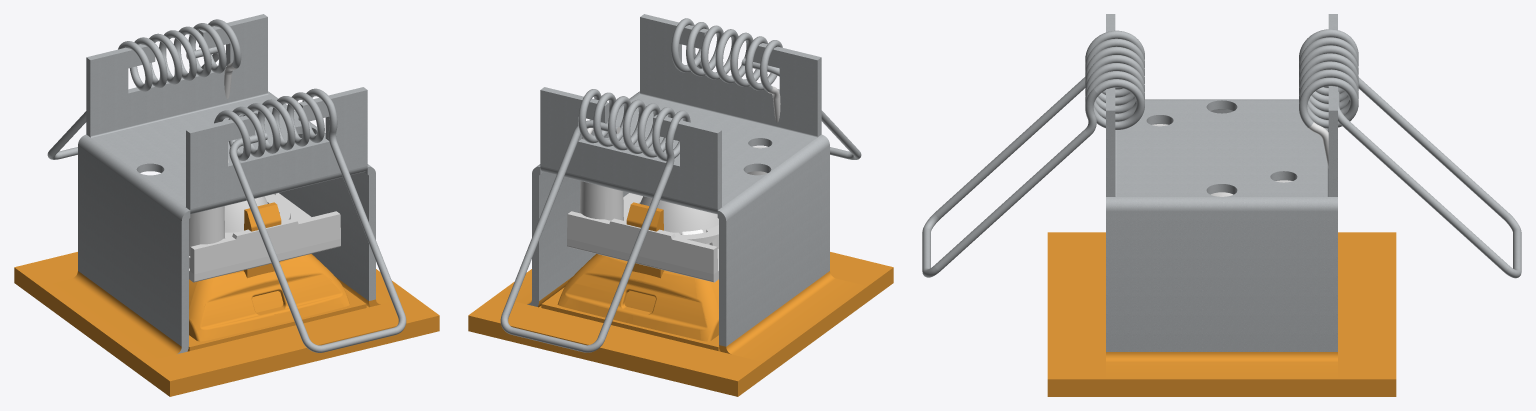
The model's file is PixelEmbutido.glb.
The picture shows the model from 3 angles, left to right: view 1: azimuth 30°, elevation 25°; view 2: azimuth 150°, elevation 25°; view 3: azimuth 270°, elevation 25°; orthographic projection. The views are drawn at different scales.
Parts seen in each view (by area): view 1: 3DGeom-6, 3DGeom-1 (×2), 3DGeom-9, 3DGeom-5, 3DGeom-12, 3DGeom-7, 3DGeom-11; view 2: 3DGeom-6, 3DGeom-1 (×2), 3DGeom-9, 3DGeom-5, 3DGeom-12, 3DGeom-7, 3DGeom-11; view 3: 3DGeom-6, 3DGeom-9, 3DGeom-1 (×2), 3DGeom-7.
Boxes of the visible parts, x1,y1,x2,y2 form: 3DGeom-6: [78, 14, 375, 353]; 3DGeom-1 (×2): [47, 19, 406, 352]; 3DGeom-9: [14, 252, 439, 396]; 3DGeom-5: [187, 202, 366, 351]; 3DGeom-12: [189, 193, 340, 282]; 3DGeom-7: [40, 269, 413, 369]; 3DGeom-11: [224, 196, 267, 232]; 3DGeom-6: [527, 14, 829, 346]; 3DGeom-1 (×2): [500, 18, 861, 352]; 3DGeom-9: [468, 252, 893, 396]; 3DGeom-5: [541, 202, 720, 351]; 3DGeom-12: [567, 146, 767, 282]; 3DGeom-7: [494, 269, 867, 369]; 3DGeom-11: [640, 196, 718, 234]; 3DGeom-6: [1106, 14, 1337, 351]; 3DGeom-9: [1047, 232, 1396, 396]; 3DGeom-1 (×2): [922, 29, 1521, 278]; 3DGeom-7: [1106, 352, 1337, 387].
Bounding box in the file's own units: 0.045 × 0.0383 × 0.0774.
Materials: 3 (1 with a texture image).
